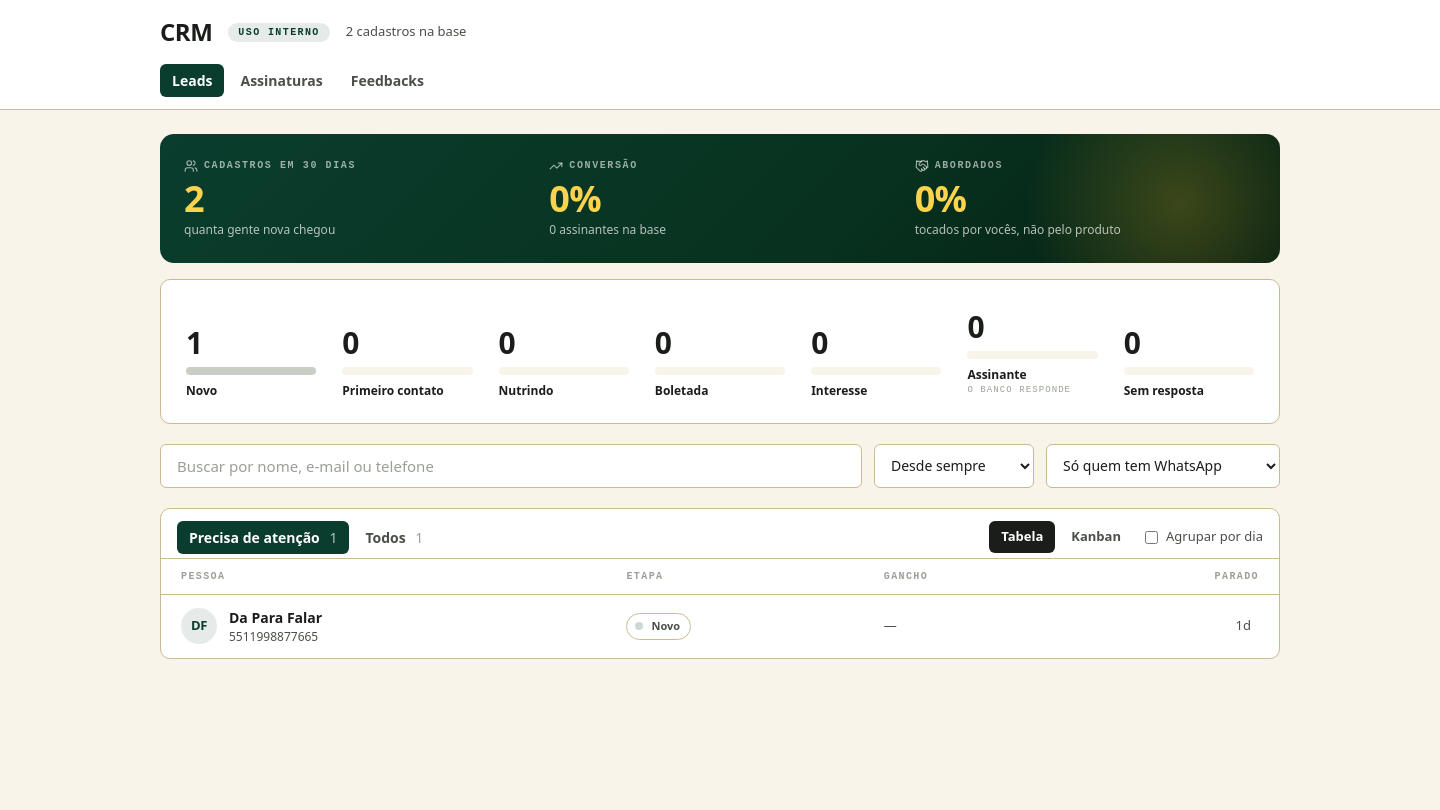
Test: PainelCrm · o filtro de WhatsApp › "só quem não tem" mostra a pilha, sem precisar de recorte próprio
The image size is (1440, 810).
Select "Só quem não tem WhatsApp" in the dropdown named "filtrar por whatsapp" at [1163, 466], box top-left (1046, 444), bottom-right (1280, 488)
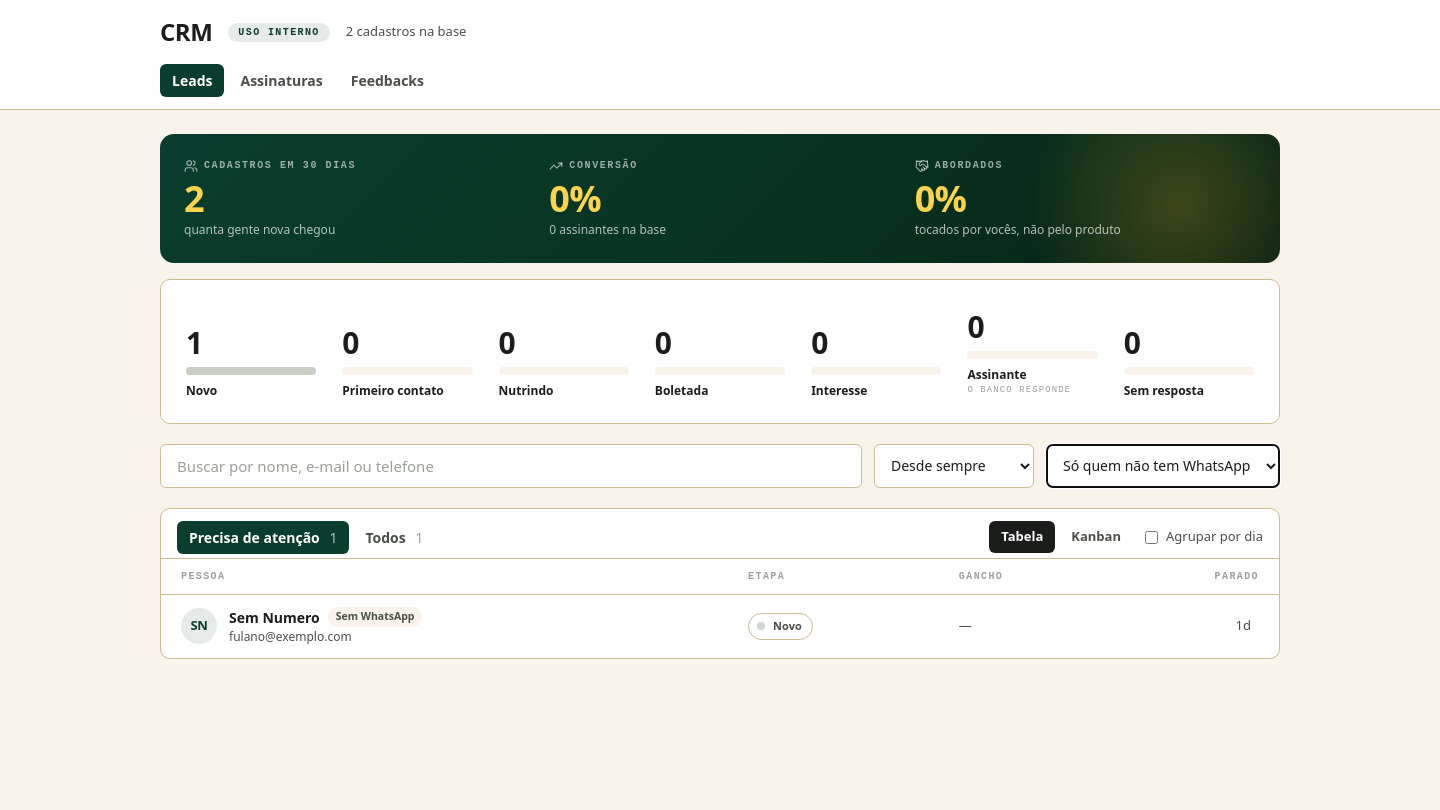
Expected: the link "Sem Numero" is shown, top-left (229, 606), bottom-right (320, 628)
Expected: the link "Da Para Falar" is gone
